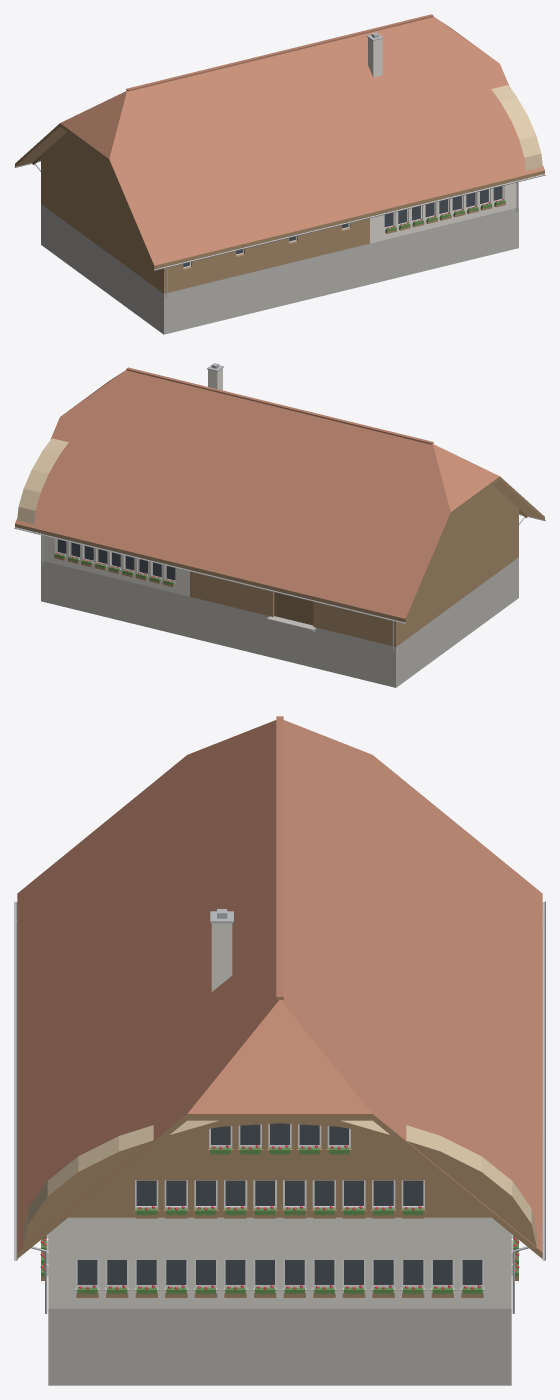
File: farmhouse_xl.glb
3 renders of one model, top to bottom at view 1: azimuth 30°, elevation 25°; view 2: azimuth 150°, elevation 25°; view 3: azimuth 270°, elevation 25°, orthographic. The views are drawn at different scales.
Parts seen in each view (by area): view 1: farmhouse_xl; view 2: farmhouse_xl; view 3: farmhouse_xl.
Part boxes in pixels (x1,y1,x2,y2): farmhouse_xl: [14, 14, 545, 334]; farmhouse_xl: [14, 363, 545, 687]; farmhouse_xl: [14, 716, 545, 1385].
Size of the model in its own units: 33 by 16.48 by 20.66.
